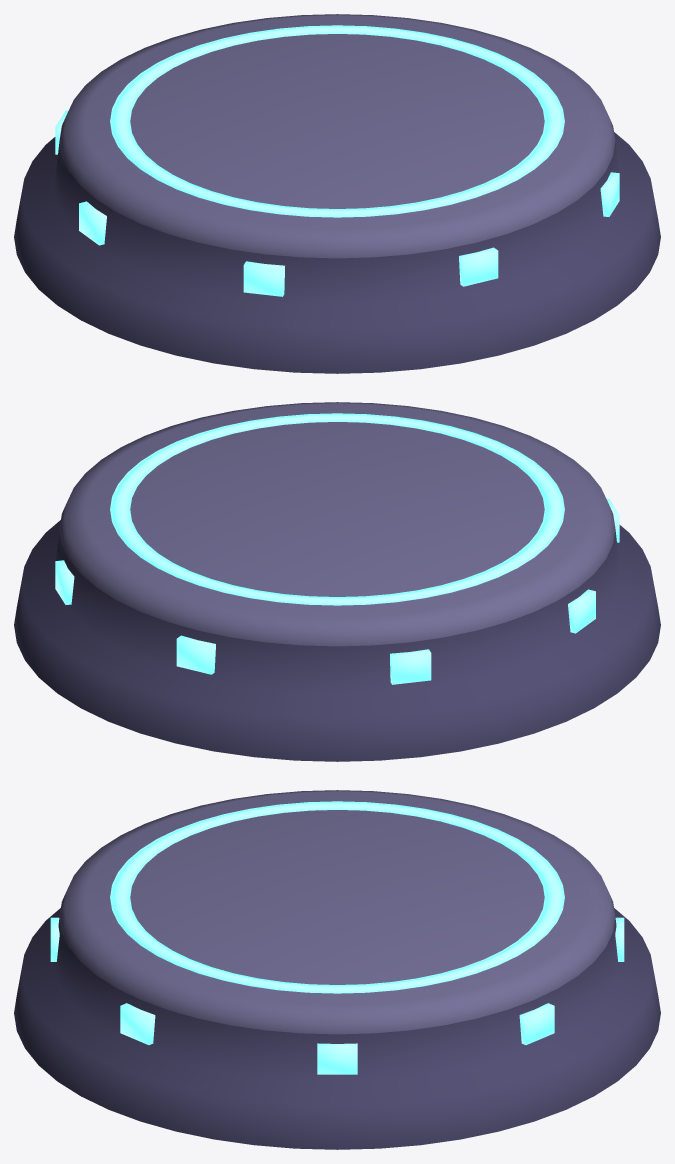
The model's file is pedestal.glb.
3 views of the same model, one above another, from view 1: azimuth 30°, elevation 25°; view 2: azimuth 150°, elevation 25°; view 3: azimuth 270°, elevation 25° (orthographic).
Parts seen in each view (by area): view 1: pedestal:mesh; view 2: pedestal:mesh; view 3: pedestal:mesh.
Boxes of the visible parts, <box> form: pedestal:mesh: <box>14,14,660,373</box>; pedestal:mesh: <box>14,402,660,761</box>; pedestal:mesh: <box>14,790,660,1149</box>.
Bounding box in the file's own units: 2.56 × 0.513 × 2.56.
